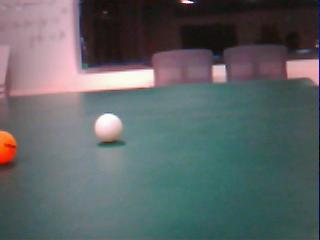oball: (0, 129, 16, 168)
